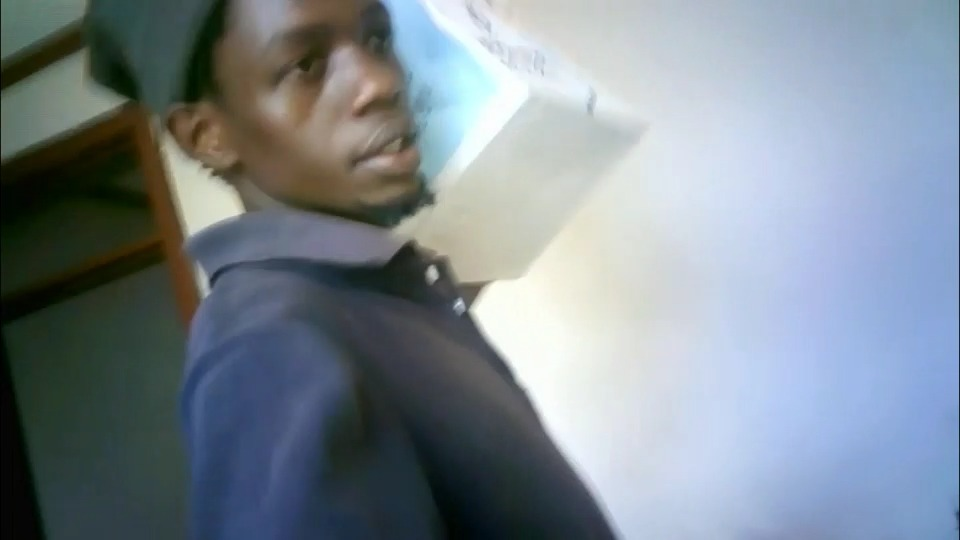wheat_flour_blue_label: (392, 0, 646, 277)
